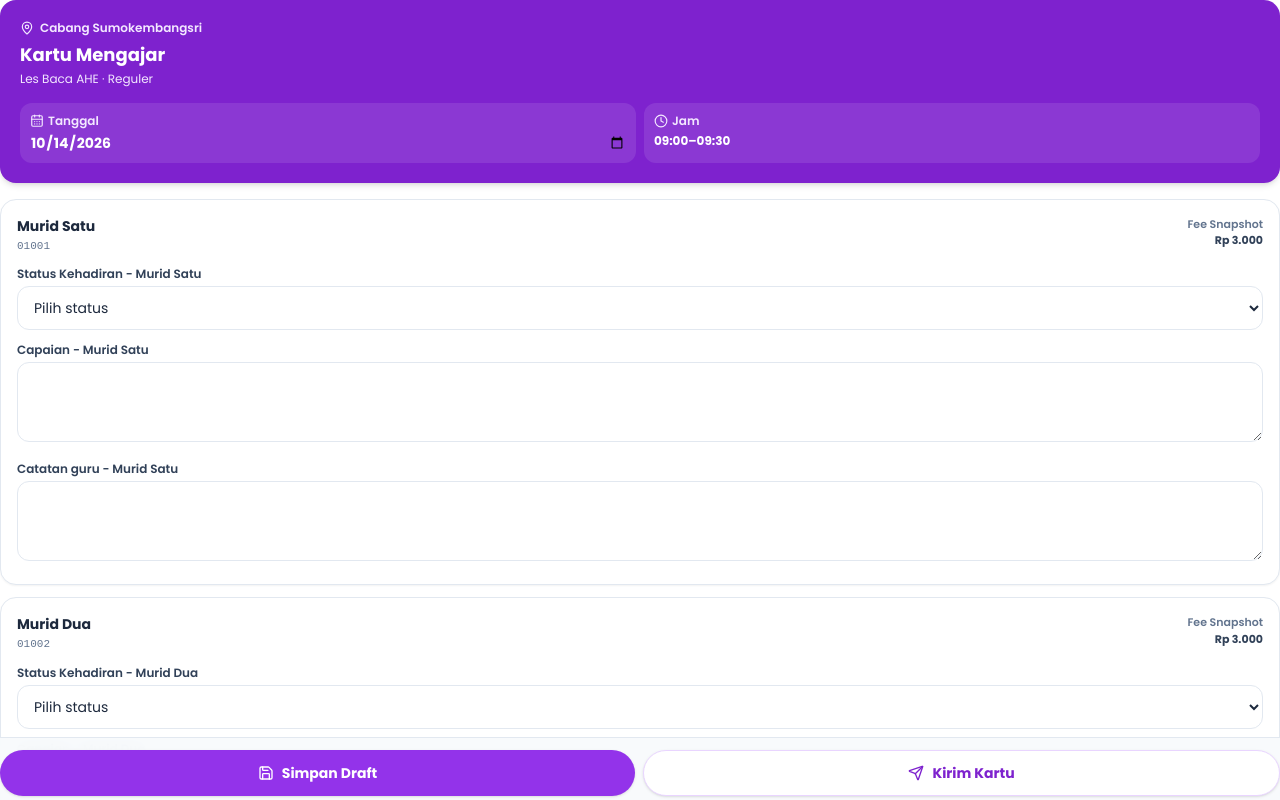
Test: TeachingLogForm › can save and submit a new card from the submit action
Select "Hadir" in the dropdown labelled "Status Kehadiran - Murid Satu": (640, 308) left=17, top=286, right=1263, bottom=330
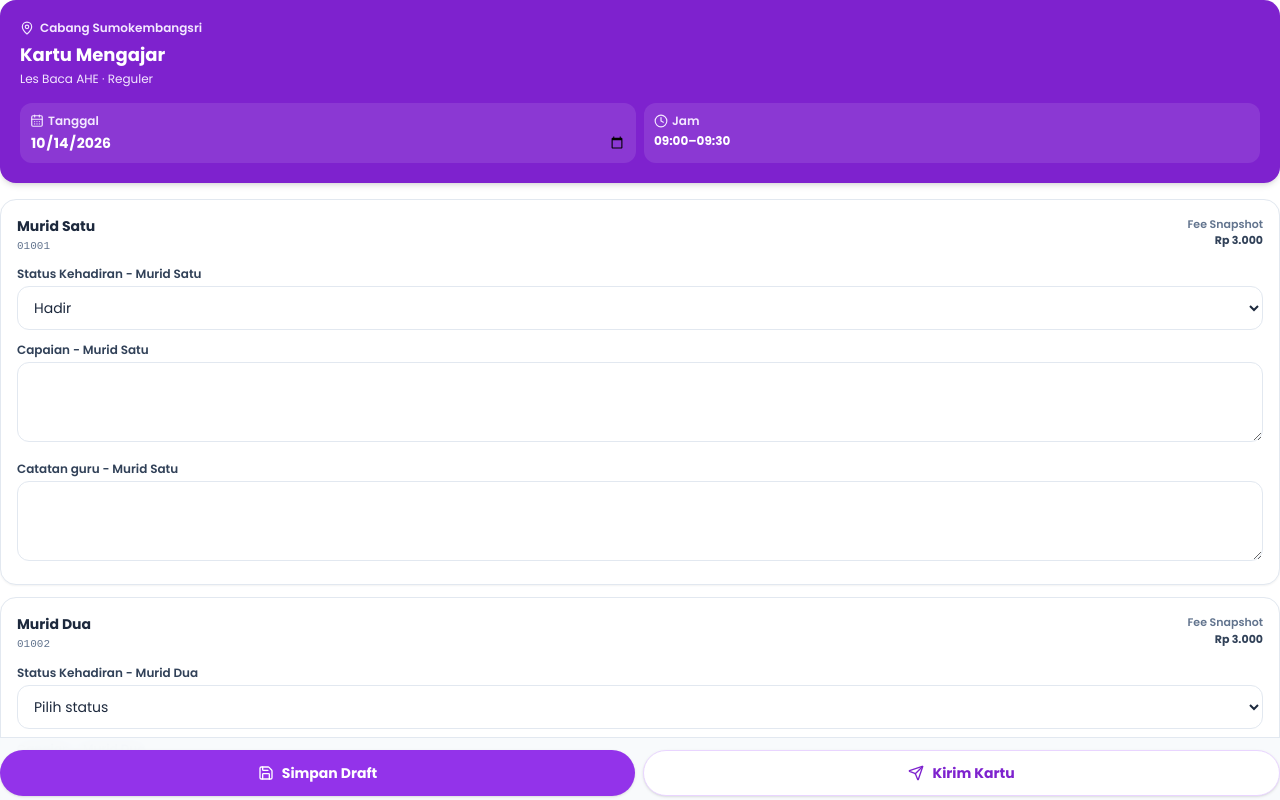
Select "Tidak Hadir" in the dropdown labelled "Status Kehadiran - Murid Dua": (640, 706) left=17, top=684, right=1263, bottom=728
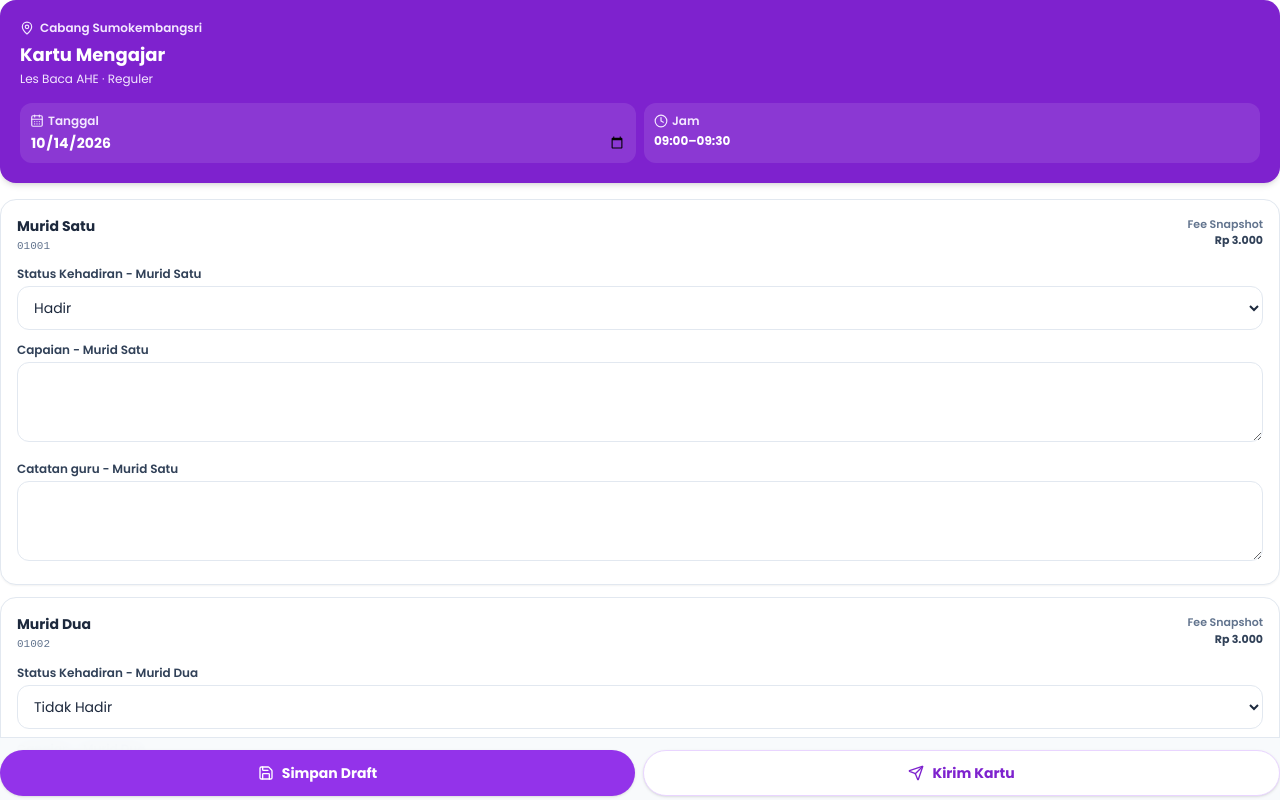
Click the button "Kirim Kartu": (962, 773) left=643, top=750, right=1279, bottom=796
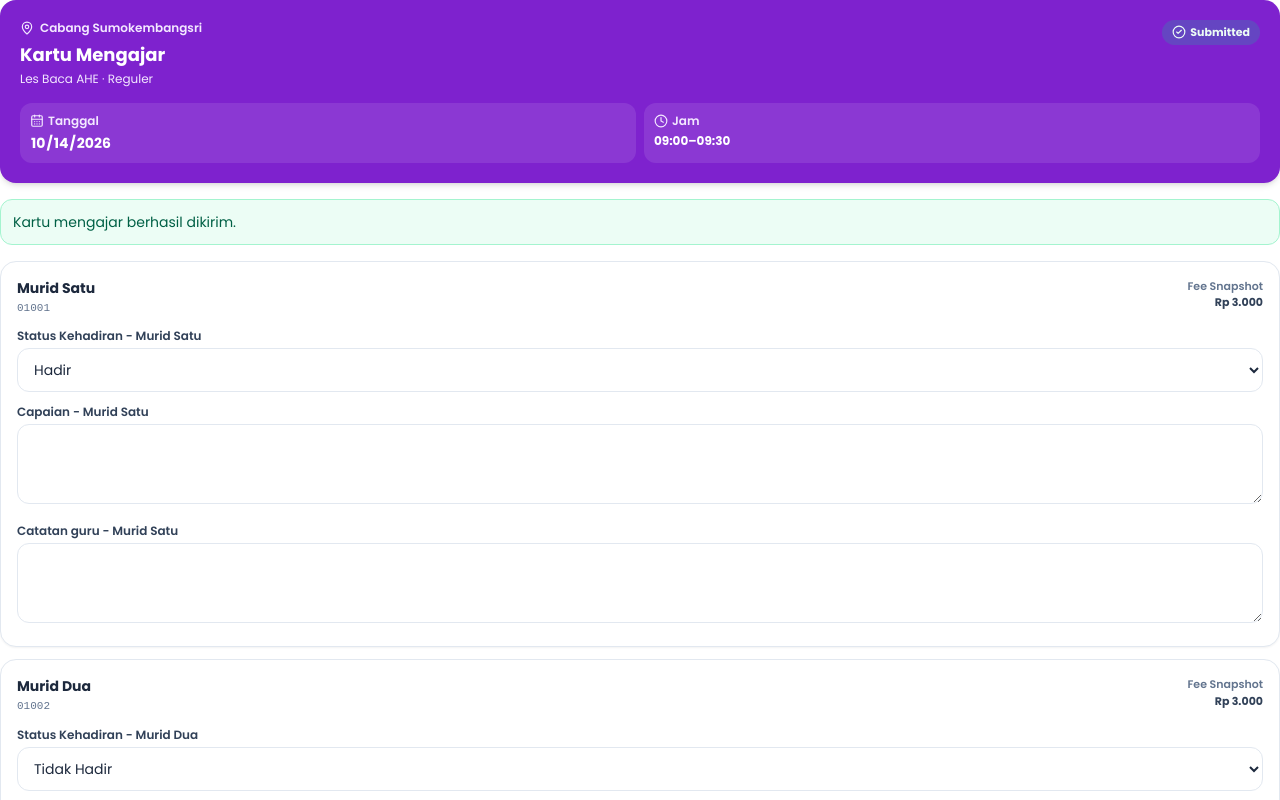
Expected: the text "Submitted" is shown, left=1162, top=20, right=1260, bottom=44
